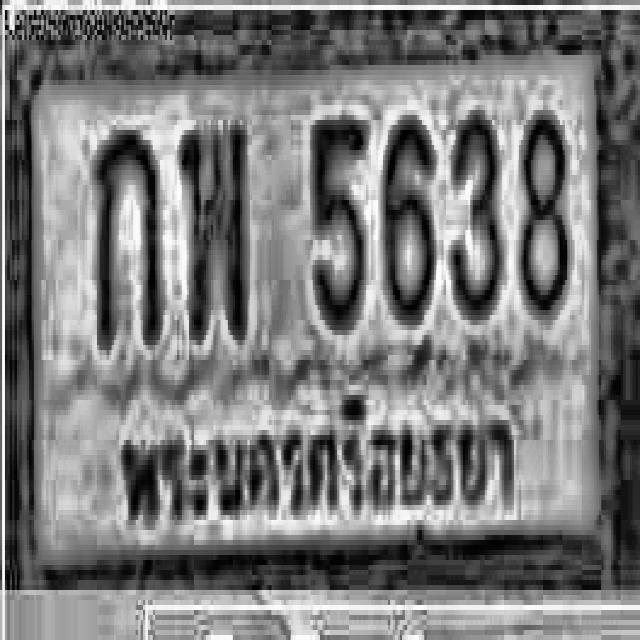license-plate: (15, 52, 620, 578)
